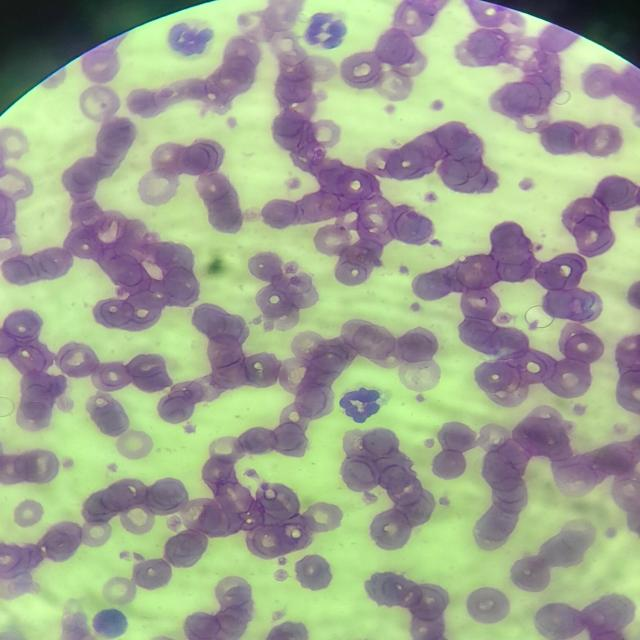Neutrofilo: (162, 18, 219, 62), (335, 384, 393, 425), (302, 8, 350, 50)
